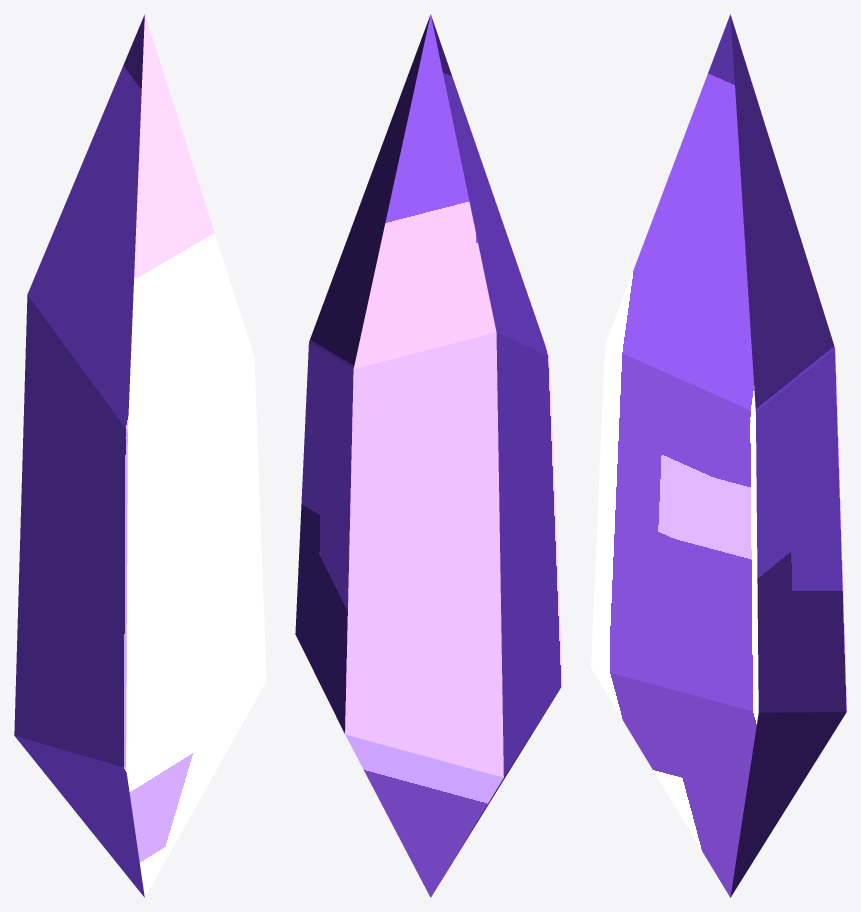
Rendered from aether_shard.glb.
3 renders of one model, left to right at view 1: azimuth 30°, elevation 25°; view 2: azimuth 150°, elevation 25°; view 3: azimuth 270°, elevation 25°, orthographic.
Visible parts, largest first — view 1: aether_shard; view 2: aether_shard; view 3: aether_shard.
Boxes of the visible parts, x1,y1,x2,y2 form: aether_shard: [14, 14, 266, 897]; aether_shard: [295, 14, 562, 897]; aether_shard: [591, 14, 846, 897].
Size of the model in its own units: 0.132 by 0.5 by 0.1312.
1 material, 1 textured.
